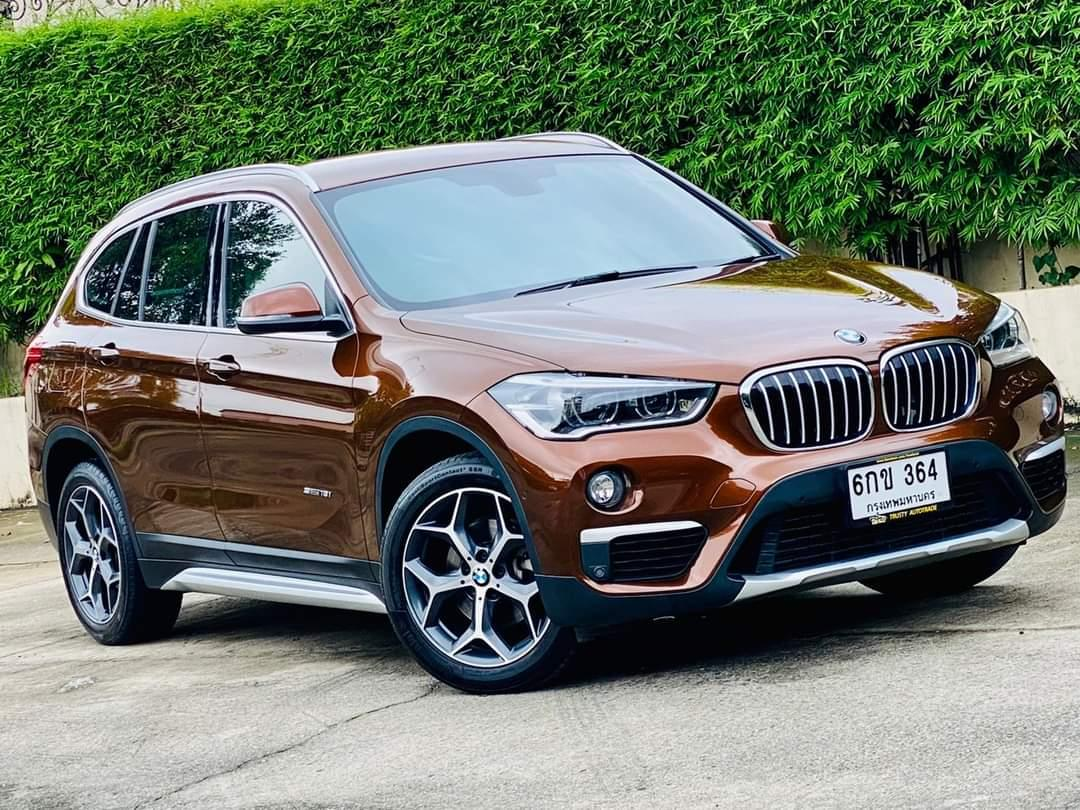license-plate: (833, 444, 960, 534)
